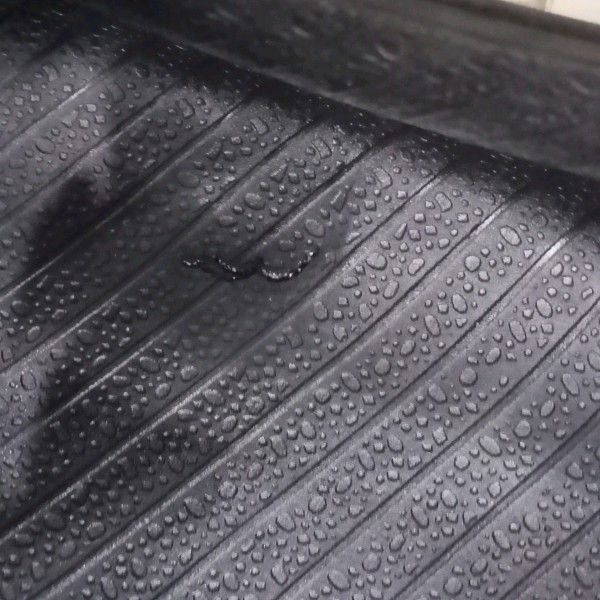CBU: (168, 240, 327, 290)
